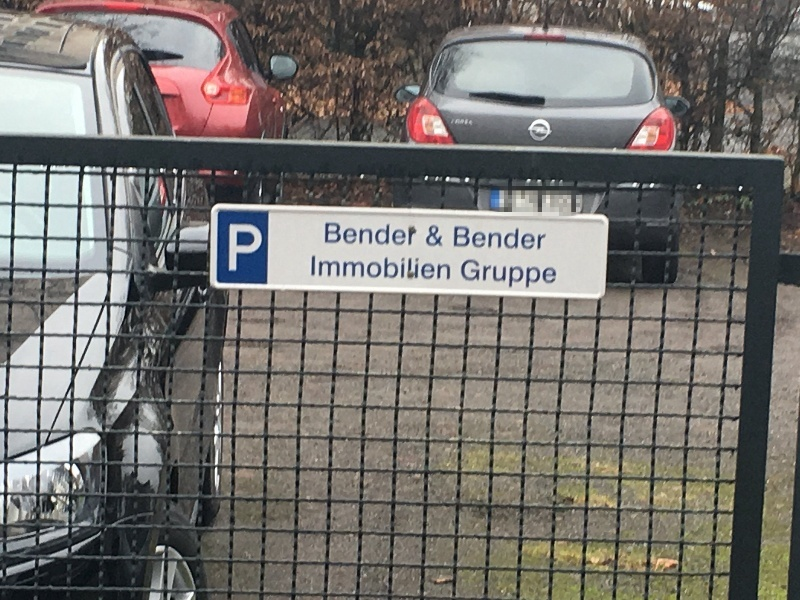text: (241, 224, 256, 272), (465, 257, 480, 297), (481, 257, 496, 297), (497, 257, 512, 297), (513, 257, 528, 297), (529, 257, 544, 297), (545, 257, 557, 297), (230, 224, 240, 272), (257, 224, 265, 272), (321, 255, 336, 280), (337, 255, 352, 280), (353, 255, 368, 280), (369, 255, 384, 280), (385, 255, 400, 280), (401, 255, 416, 280), (417, 255, 432, 280), (433, 255, 448, 280), (465, 226, 480, 251), (481, 226, 496, 251), (497, 226, 512, 251), (513, 226, 528, 251), (529, 226, 544, 251), (337, 222, 352, 246), (353, 222, 368, 246), (369, 222, 384, 246), (385, 222, 400, 246), (401, 222, 416, 246), (325, 222, 336, 246), (454, 226, 464, 251), (433, 225, 444, 247), (312, 255, 320, 280), (461, 257, 464, 297), (545, 226, 549, 251), (453, 118, 464, 126), (465, 118, 475, 126), (429, 225, 432, 247), (449, 255, 451, 280), (417, 222, 418, 246)
